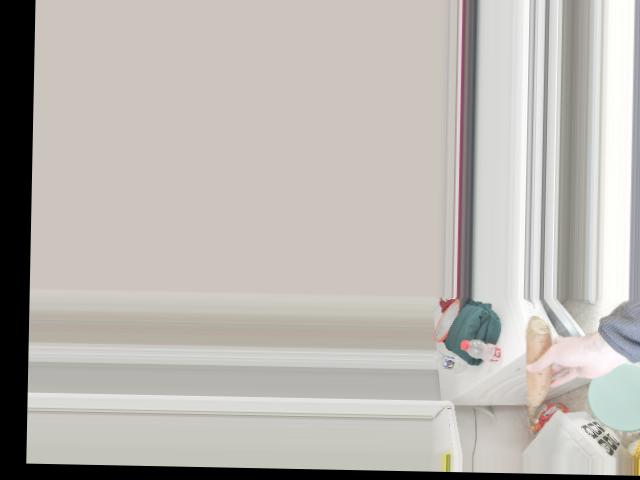sweet_potato: (525, 325, 552, 410)
